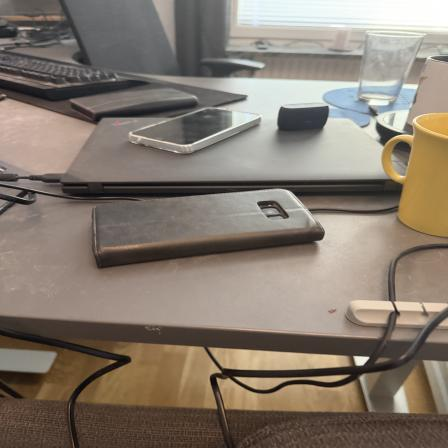phone: (93, 189, 324, 264), (121, 104, 263, 153), (76, 91, 204, 115)
yellow_cup: (378, 111, 448, 236)
